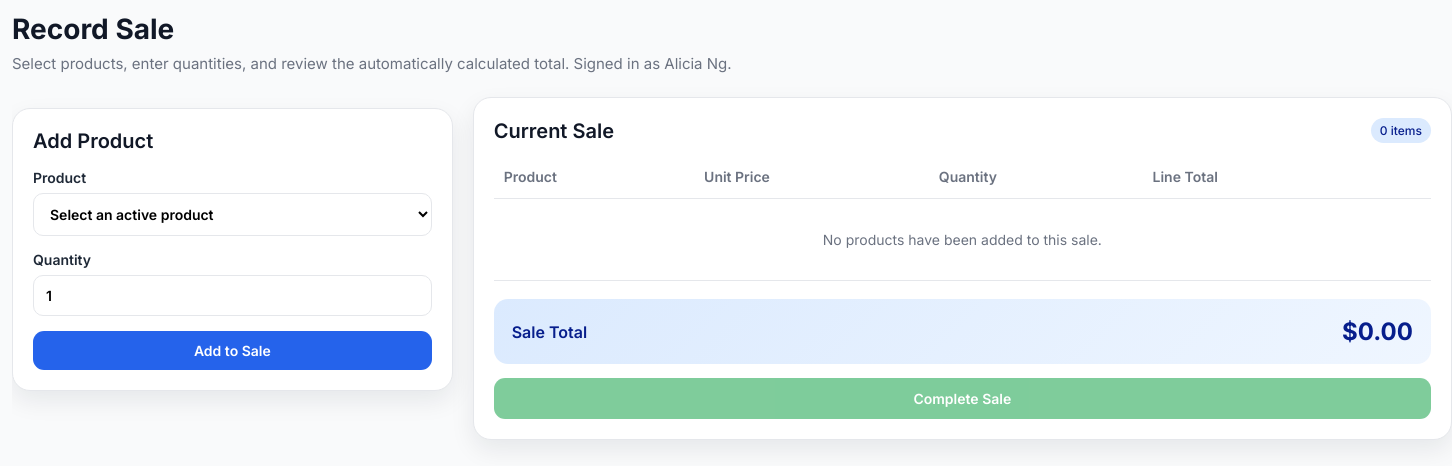
Scenario: SalesCart › loads database products and calculates line and sale totals
Select "Rice — $55.00 (18 in stock)" in the dropdown labelled "Product" at (232, 214), box [33,193,432,236]
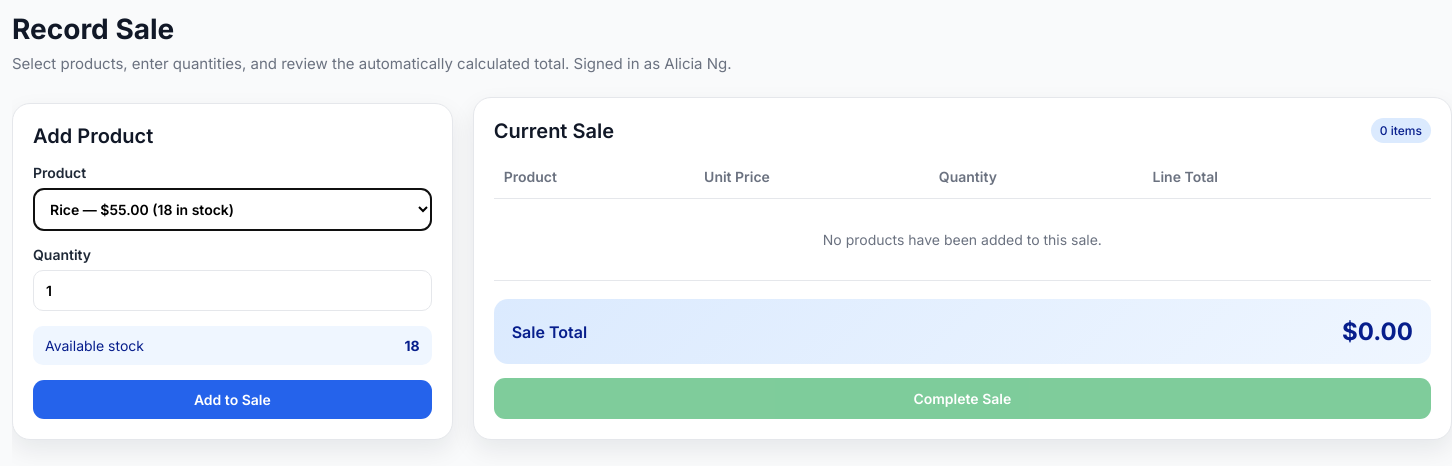
Replace the text in the number field labelled "Quantity" with "2" at (232, 290), box [33,270,432,311]
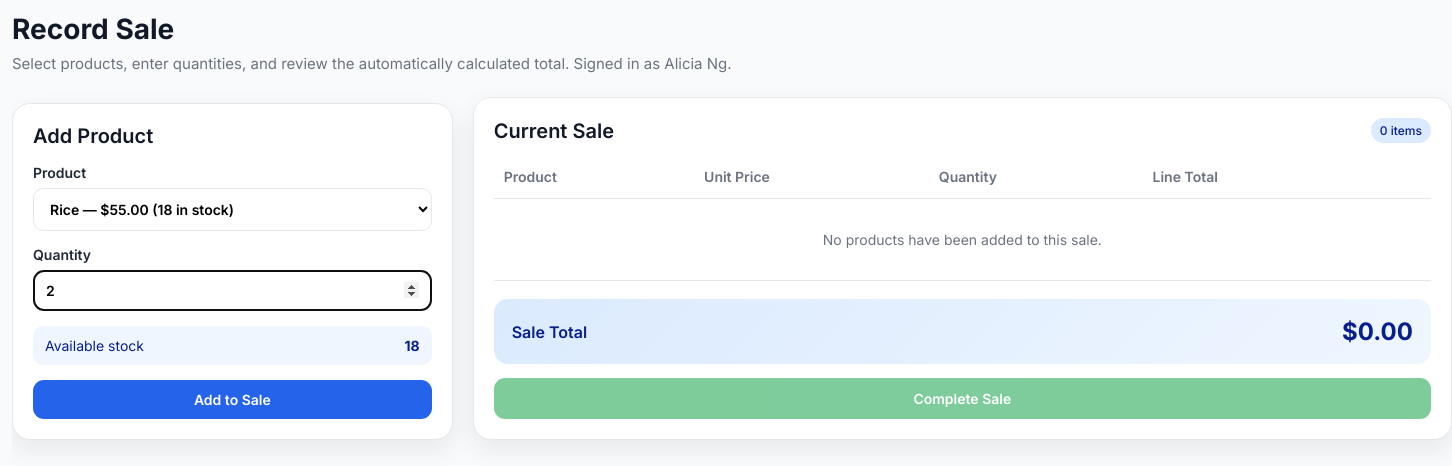
Click the button "Add to Sale" at (232, 400), box [33,380,432,419]
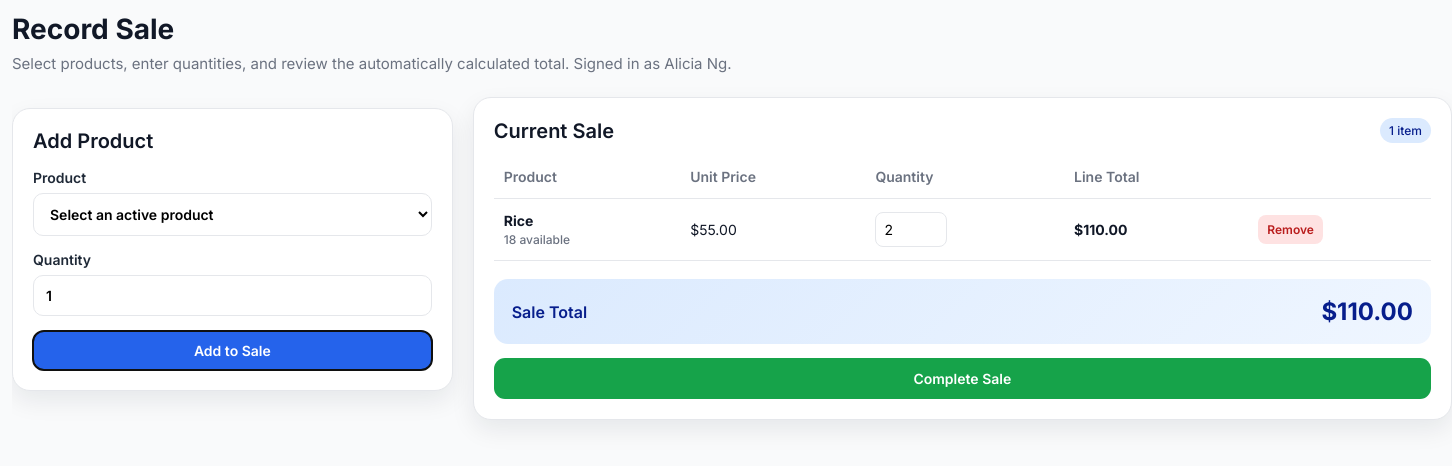
Expected: the text "$110.00" is shown 2 times, [1074,221,1127,238]; [1321,297,1413,326]
Expected: the text "Rice" is shown, [504,212,533,229]
